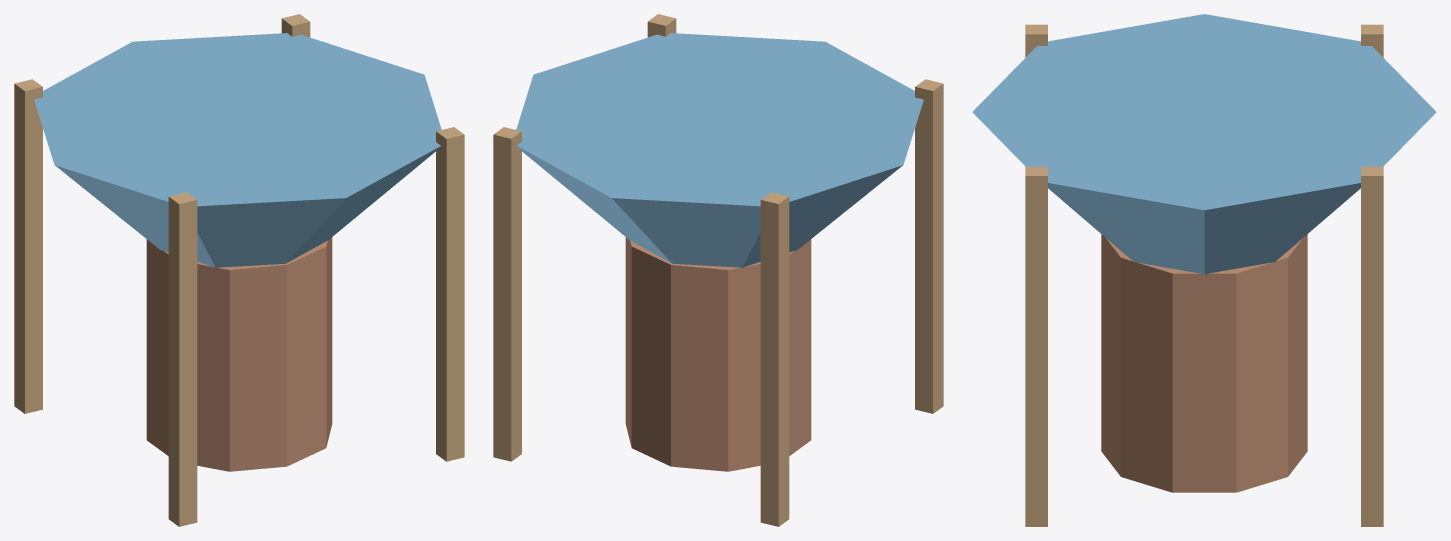
Rendered from SM_RainCollector.fbx.
3 renders of one model, left to right at view 1: azimuth 30°, elevation 25°; view 2: azimuth 150°, elevation 25°; view 3: azimuth 270°, elevation 25°, orthographic. The views are drawn at different scales.
Visible parts, largest first — view 1: SM_RainCollector; view 2: SM_RainCollector; view 3: SM_RainCollector.
Boxes of the visible parts, x1=… form: SM_RainCollector: x1=14, y1=14, x2=464, y2=526; SM_RainCollector: x1=493, y1=14, x2=943, y2=526; SM_RainCollector: x1=972, y1=14, x2=1436, y2=526.
Bounding box in the file's own units: 14400 × 14400 × 12000.
